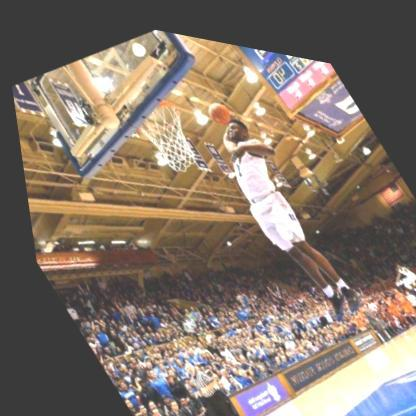basketball: (200, 88, 233, 120)
rim: (120, 81, 209, 178)
